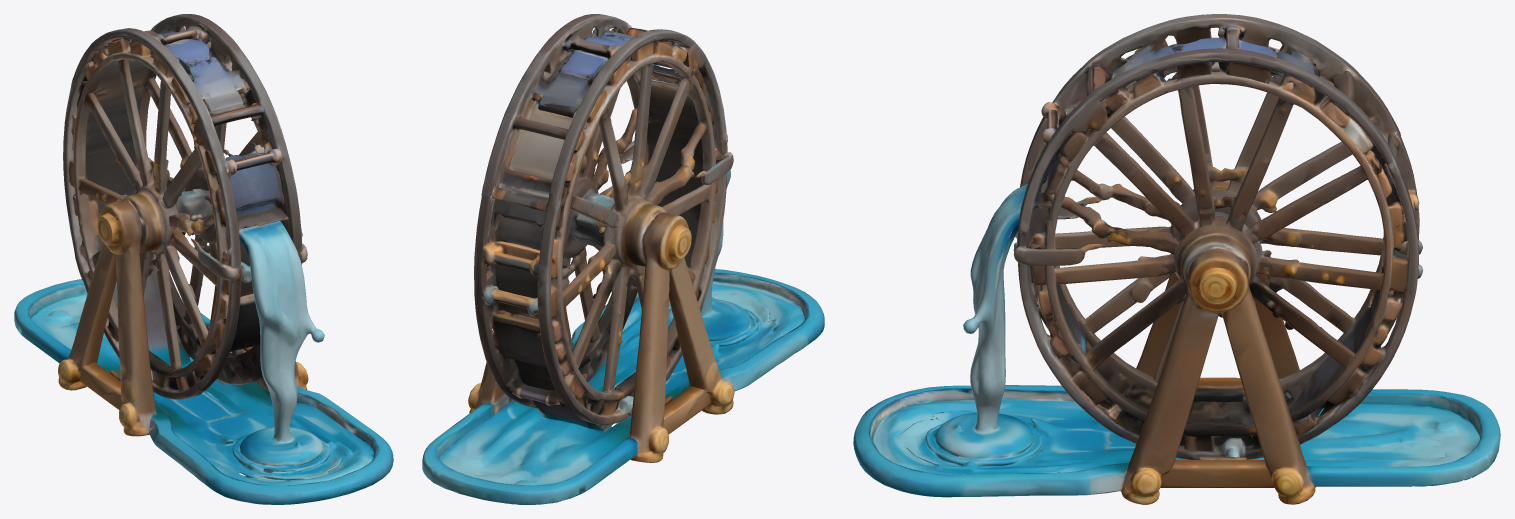
File: prop-wheel-water-small.glb
3 renders of one model, left to right at view 1: azimuth 30°, elevation 25°; view 2: azimuth 150°, elevation 25°; view 3: azimuth 270°, elevation 25°, orthographic. The views are drawn at different scales.
Parts seen in each view (by area): view 1: tripo_node_1cdf0f9d-4757-462a-a35d-76055ad7fbcf; view 2: tripo_node_1cdf0f9d-4757-462a-a35d-76055ad7fbcf; view 3: tripo_node_1cdf0f9d-4757-462a-a35d-76055ad7fbcf.
Boxes of the visible parts, x1,y1,x2,y2 form: tripo_node_1cdf0f9d-4757-462a-a35d-76055ad7fbcf: [14, 14, 393, 504]; tripo_node_1cdf0f9d-4757-462a-a35d-76055ad7fbcf: [422, 14, 824, 504]; tripo_node_1cdf0f9d-4757-462a-a35d-76055ad7fbcf: [853, 14, 1500, 504].
Bounding box in the file's own units: 1.49 × 3 × 3.86.
Materials: 1 (1 with a texture image).
